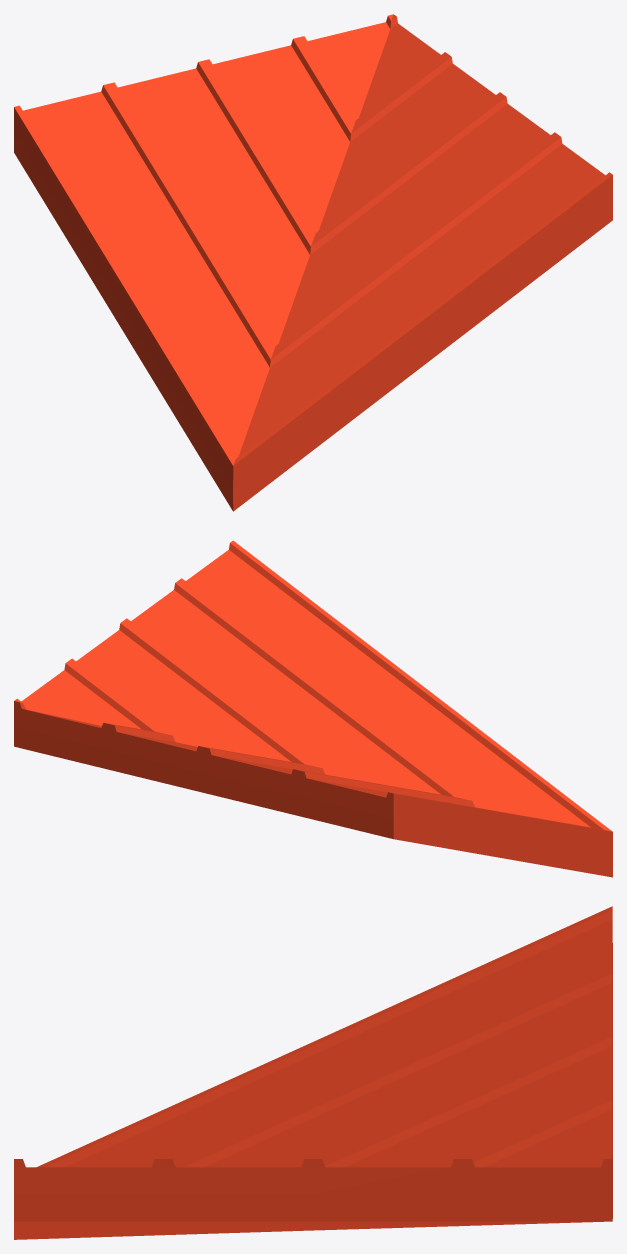
The model's file is roof-metal-moderate-2x2m-corner-b.fbx.
3 views of the same model, one above another, from view 1: azimuth 30°, elevation 25°; view 2: azimuth 150°, elevation 25°; view 3: azimuth 270°, elevation 25° (orthographic). The views are drawn at different scales.
Visible parts, largest first — view 1: roof-metal-moderate-2x2m-corner-b; view 2: roof-metal-moderate-2x2m-corner-b; view 3: roof-metal-moderate-2x2m-corner-b.
Part boxes in pixels (<box>): roof-metal-moderate-2x2m-corner-b: <box>14,14,612,511</box>; roof-metal-moderate-2x2m-corner-b: <box>14,540,612,877</box>; roof-metal-moderate-2x2m-corner-b: <box>14,906,612,1239</box>.
Size of the model in its own units: 2 by 1.23 by 2.
